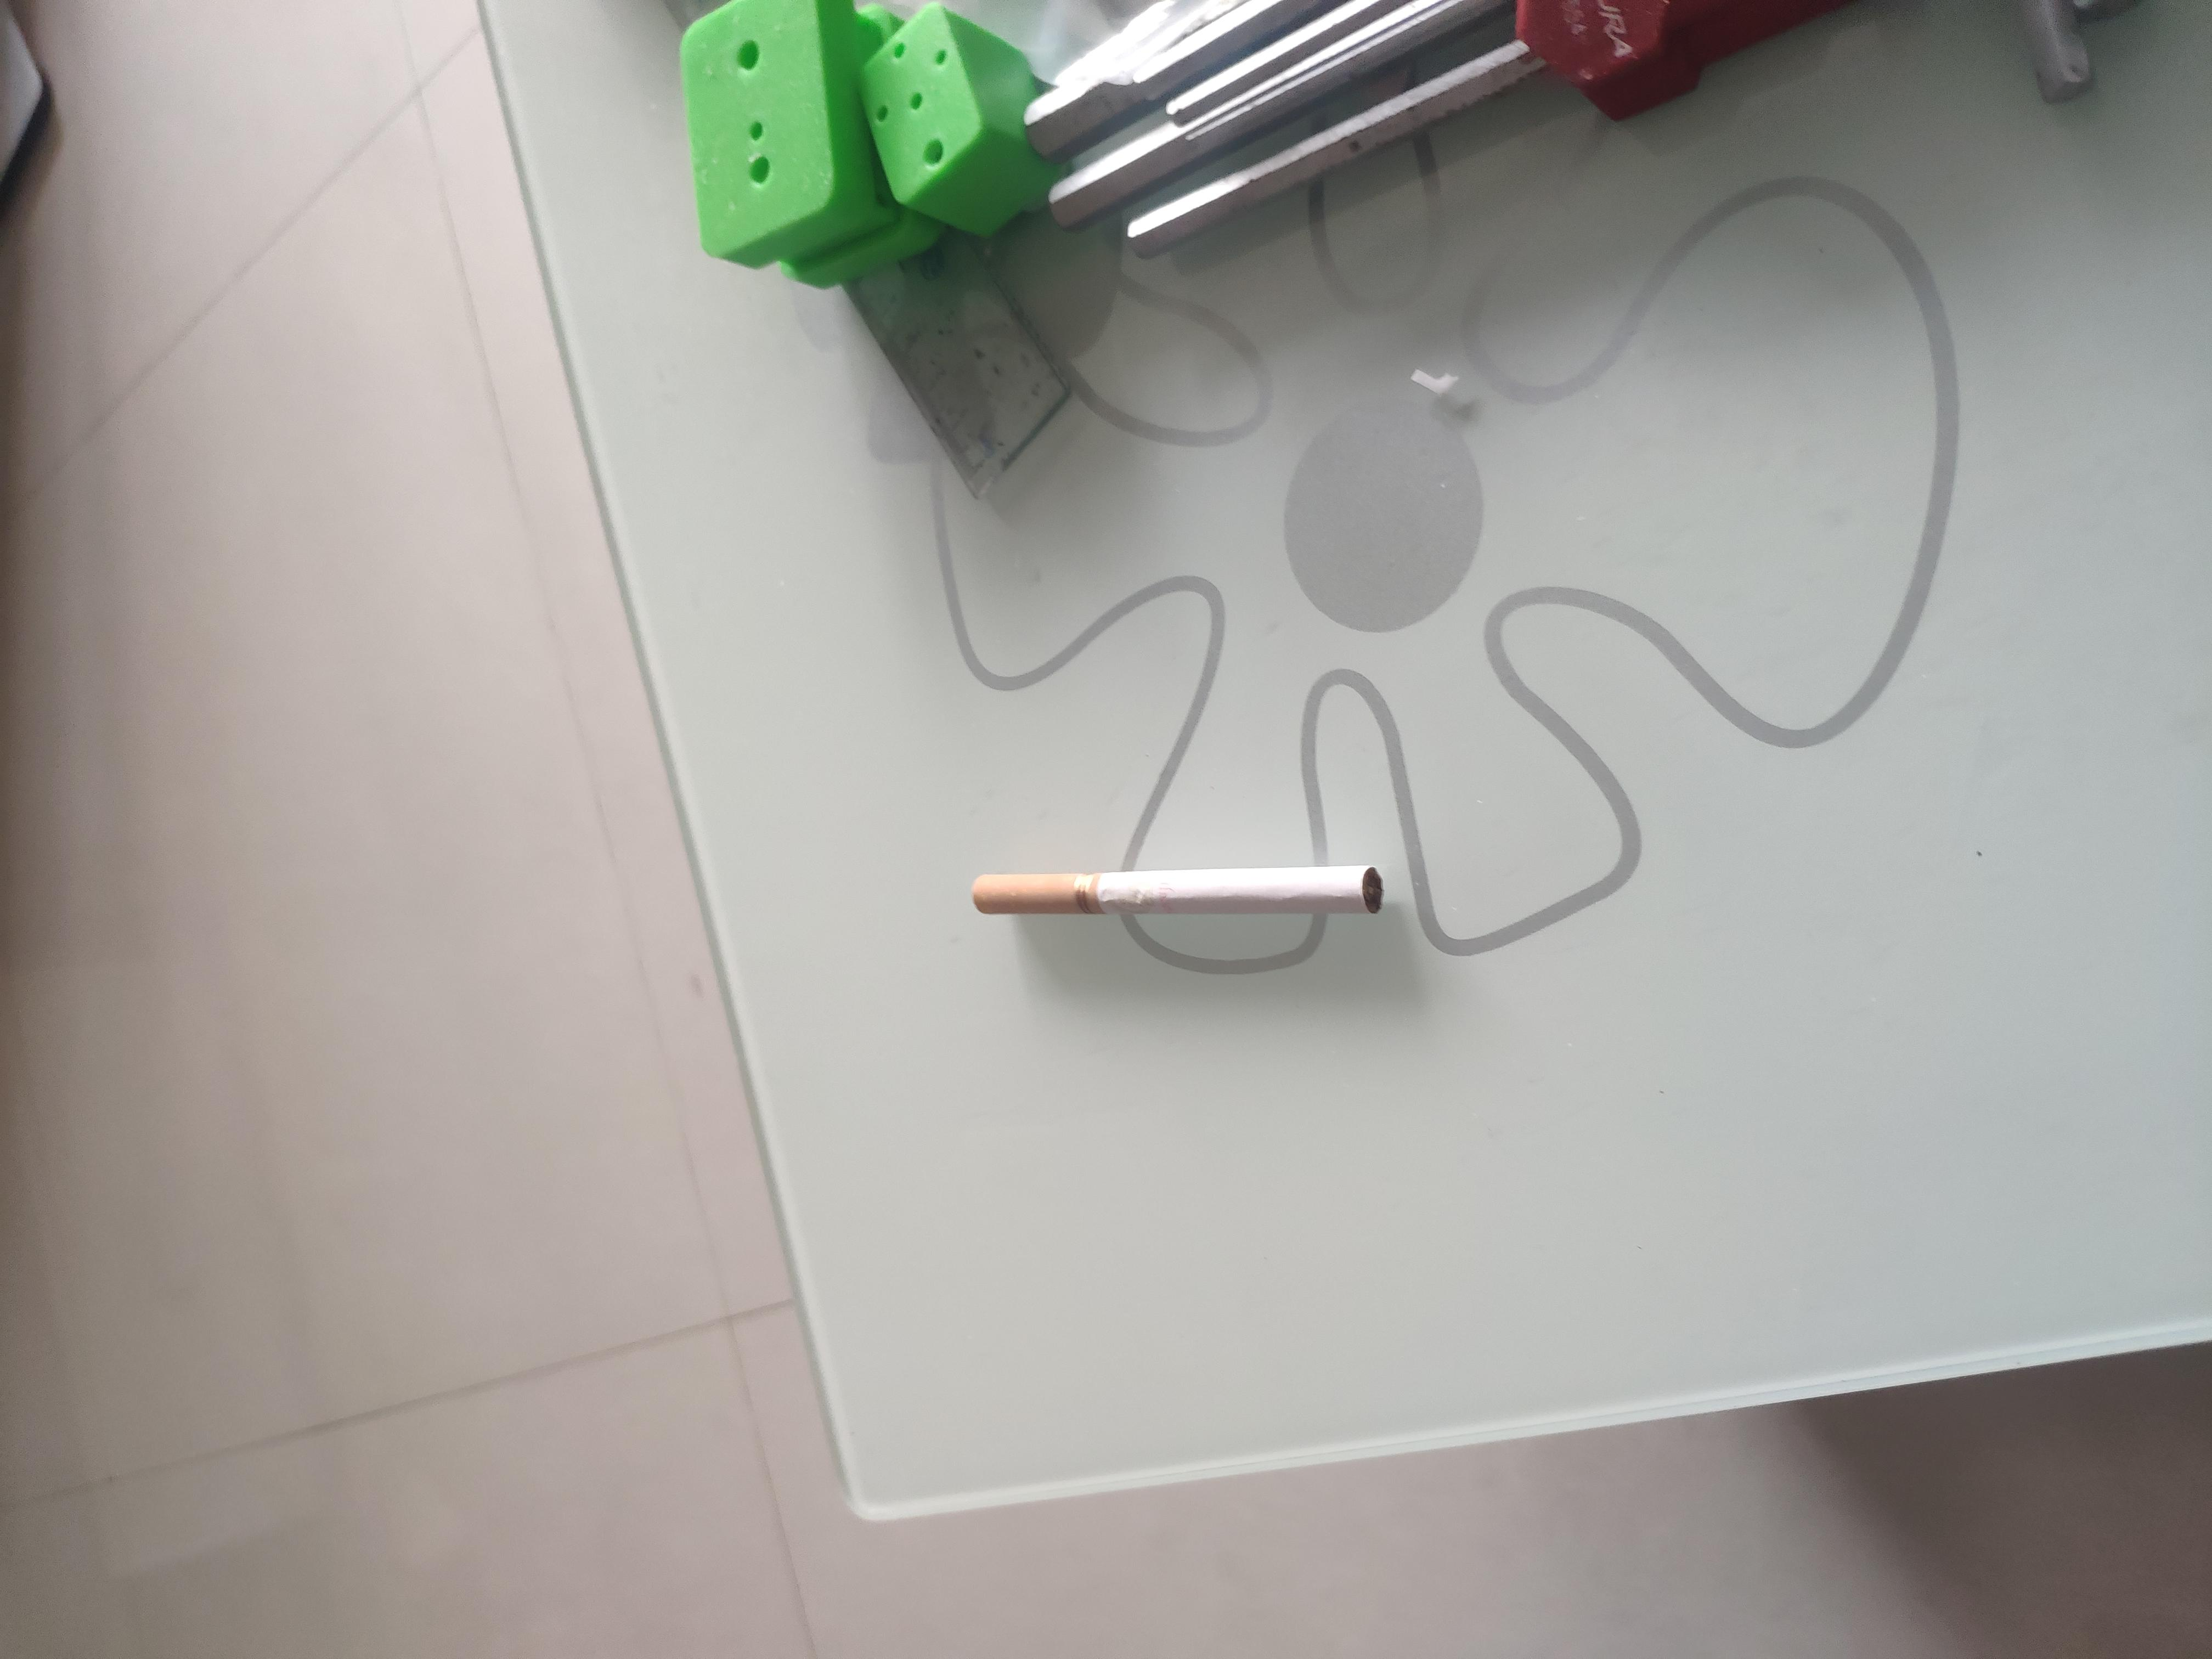smoke: (991, 730, 1069, 1039)
